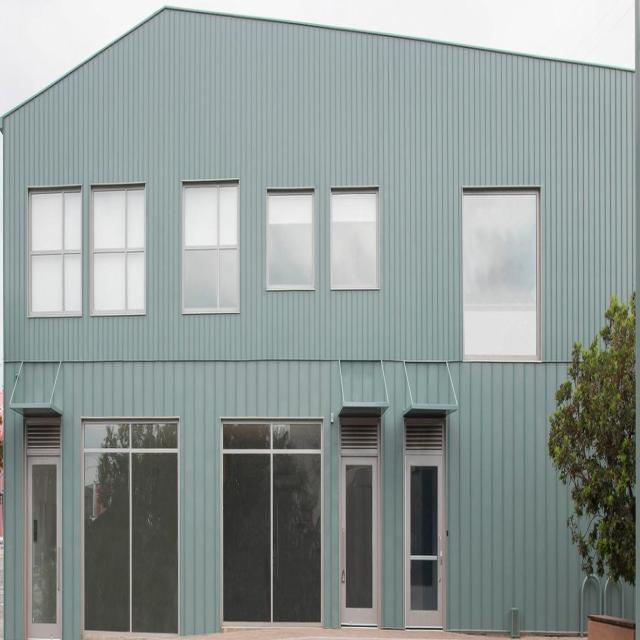door: (403, 421, 445, 633), (339, 426, 381, 638), (23, 417, 61, 640)
window: (221, 421, 325, 631), (82, 420, 178, 633), (461, 189, 539, 365), (184, 181, 239, 310), (28, 183, 82, 311), (92, 188, 146, 316), (265, 190, 315, 295), (333, 187, 383, 291)
